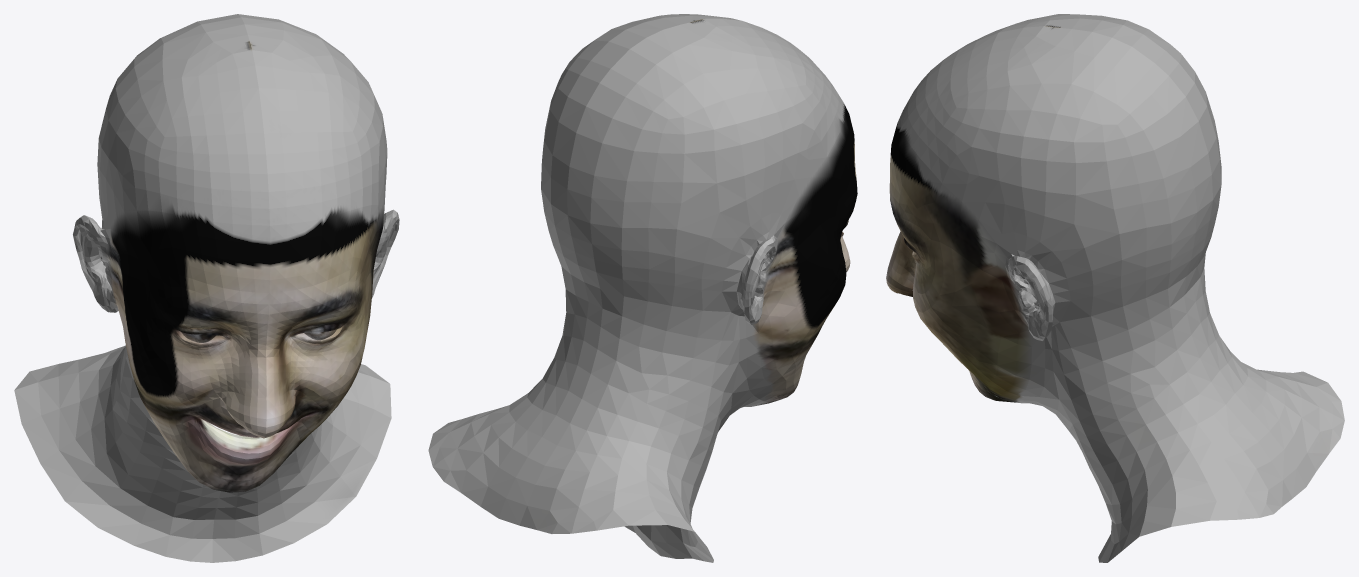
The model's file is ezgif-frame-004.obj.
3 views of the same model, side by side, from view 1: azimuth 30°, elevation 25°; view 2: azimuth 150°, elevation 25°; view 3: azimuth 270°, elevation 25° (orthographic). The views are drawn at different scales.
Size of the model in its own units: 0.207 by 0.3275 by 0.2651.
1 material, 1 textured.
